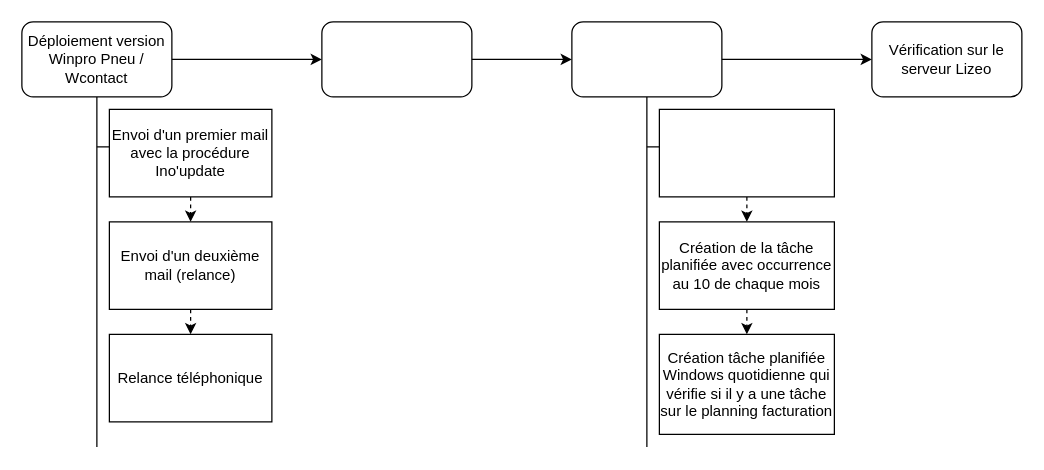
Image size: 1044x470. Some labels were removed from this diagram. Here are the shapes that lost their labels. From the top down, the centre of each, then its label:
At (x=396, y=59): "Activation DLL dans WinClient".
At (x=646, y=59): "Dépôt DLL et Paramétrage ERP".
At (x=746, y=152): "Envoi manuel de la période du 01/01/2019 au 31/05/2019".
